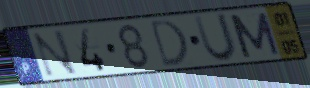4: (79, 26, 108, 74)
8: (115, 22, 153, 71)
D: (147, 17, 191, 70)
M: (226, 10, 283, 60)
N: (30, 28, 80, 79)
U: (191, 11, 240, 64)
